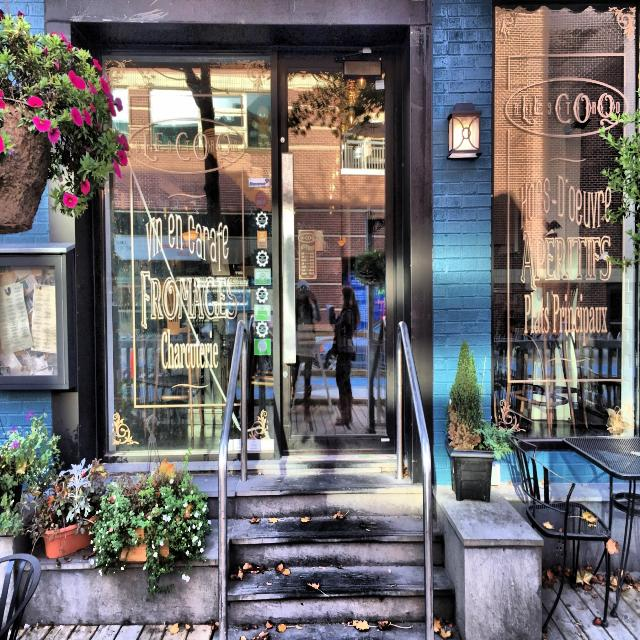escada: (220, 493, 454, 624)
